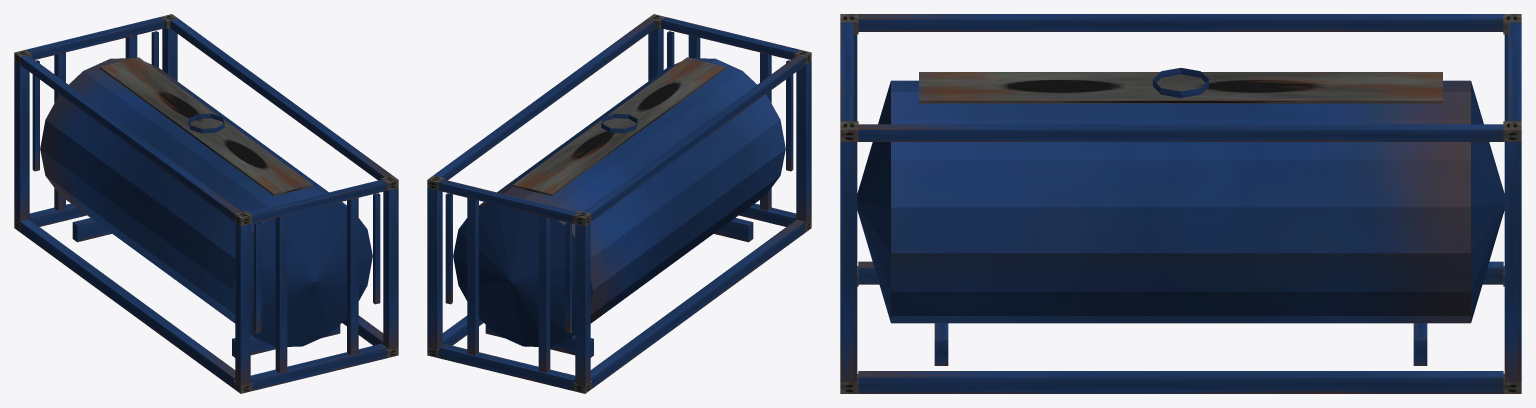
The model's file is c20tank.glb.
3 views of the same model, side by side, from view 1: azimuth 30°, elevation 25°; view 2: azimuth 150°, elevation 25°; view 3: azimuth 270°, elevation 25° (orthographic). The views are drawn at different scales.
Visible parts, largest first — view 1: body|containers; view 2: body|containers; view 3: body|containers.
Boxes of the visible parts, x1,y1,x2,y2 form: body|containers: (14,14,398,393); body|containers: (427,14,811,393); body|containers: (840,14,1521,393).
Size of the model in its own units: 2.44 by 2.59 by 6.06.
1 material, 1 textured.
